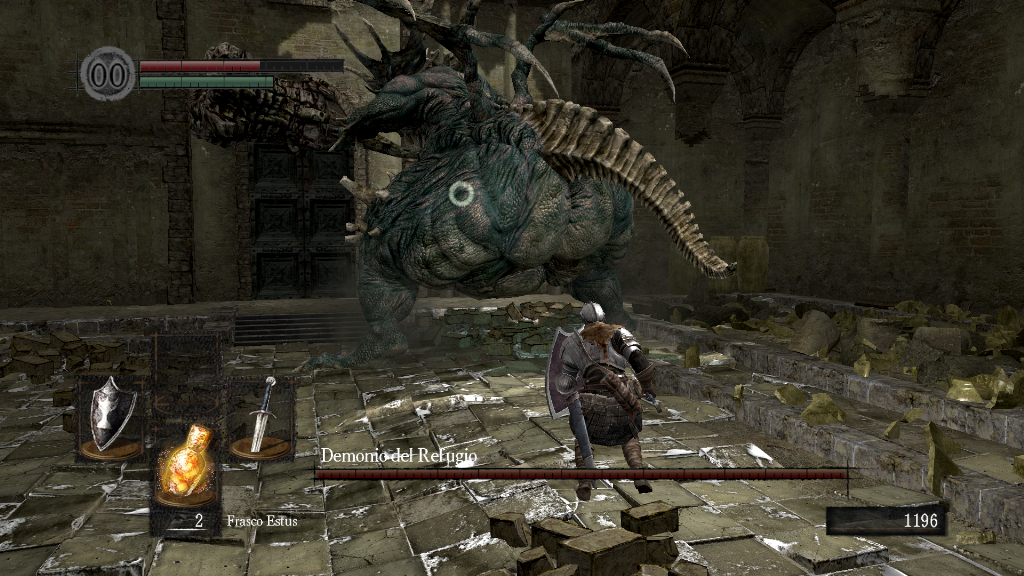asylumDemon: (186, 1, 744, 366)
bossHP: (314, 469, 847, 479)
health: (138, 58, 343, 71)
humanity: (80, 45, 136, 102)
player: (545, 299, 661, 503)
souls: (825, 506, 945, 536)
stamina: (138, 74, 274, 88)
